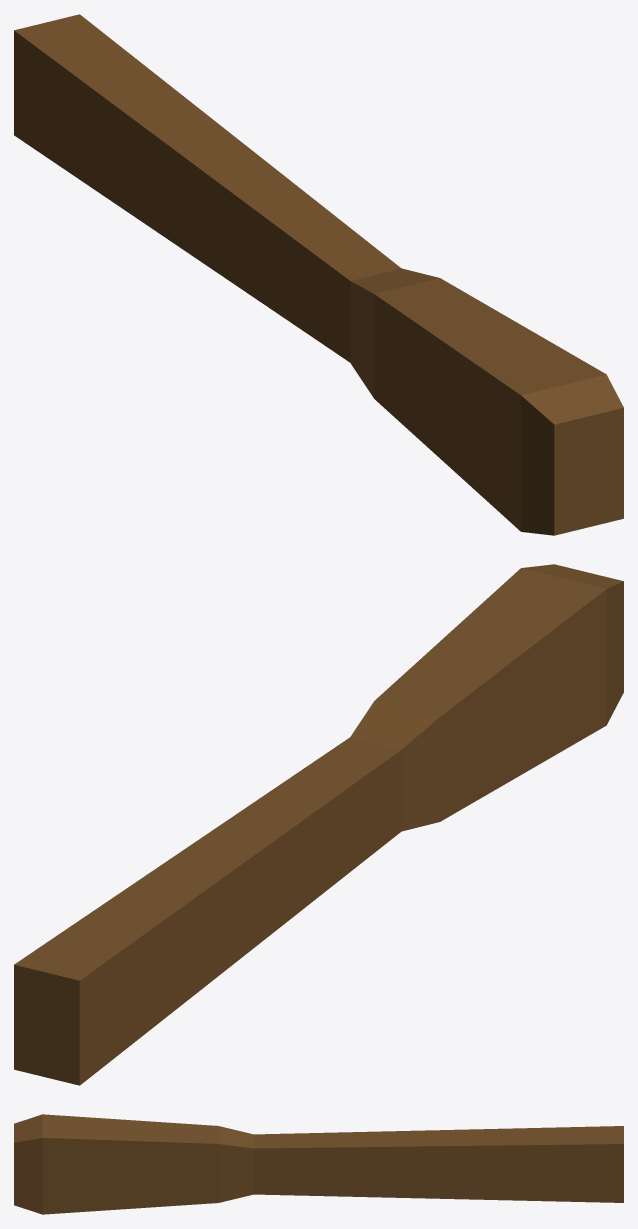
File: Switch_Lever.glb
3 views of the same model, one above another, from view 1: azimuth 30°, elevation 25°; view 2: azimuth 150°, elevation 25°; view 3: azimuth 270°, elevation 25° (orthographic). The views are drawn at different scales.
Parts seen in each view (by area): view 1: Switch_Lever.001; view 2: Switch_Lever.001; view 3: Switch_Lever.001.
Part boxes in pixels (left/top/right/bottom): Switch_Lever.001: left=14, top=14, right=623, bottom=535; Switch_Lever.001: left=14, top=564, right=623, bottom=1085; Switch_Lever.001: left=14, top=1114, right=623, bottom=1214.
Size of the model in its own units: 0.0633 by 0.0965 by 0.6945.
1 material, 1 textured.
